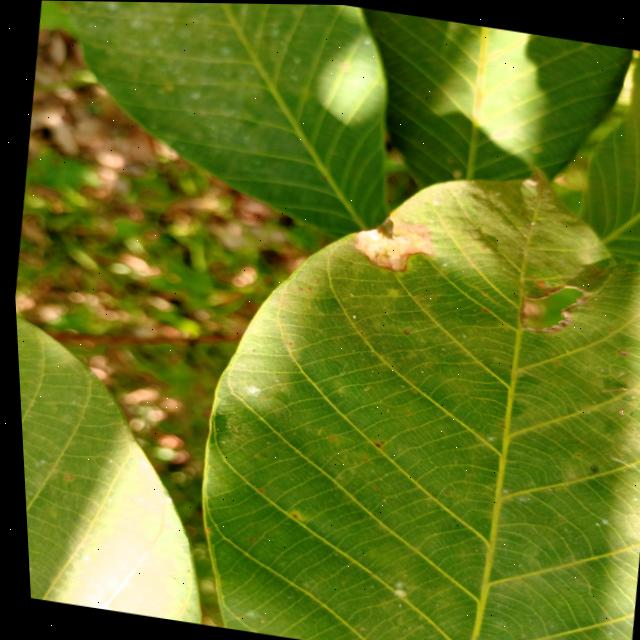Colletotrichum: (584, 462, 595, 471), (571, 451, 575, 455)
Leaf-Blight: (347, 209, 436, 275)
